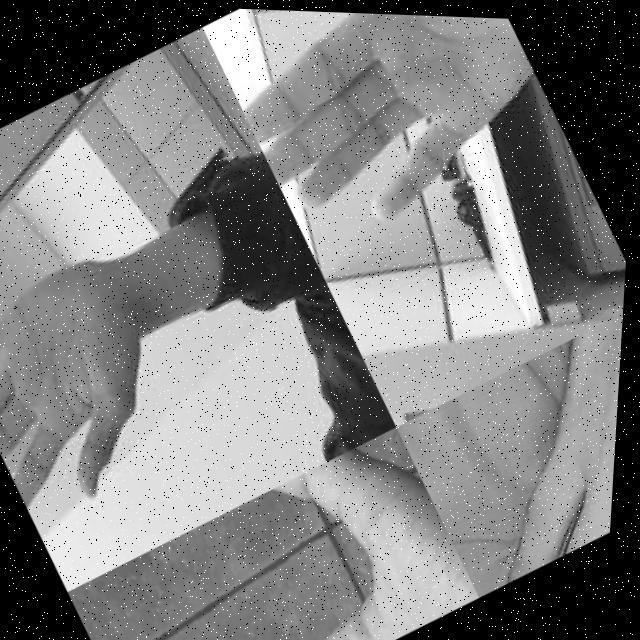no-gloves: (190, 6, 589, 296), (91, 414, 494, 640), (394, 288, 627, 596), (0, 240, 210, 532)
